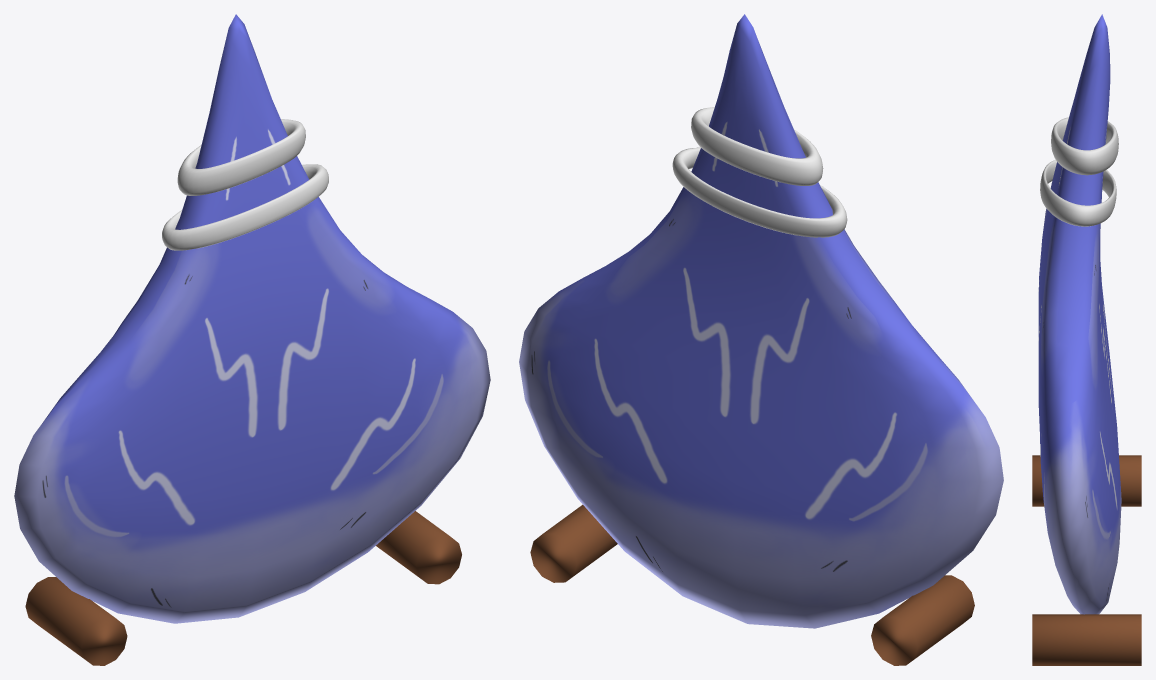
The model's file is escamaLendaria.fbx.
3 renders of one model, left to right at view 1: azimuth 30°, elevation 25°; view 2: azimuth 150°, elevation 25°; view 3: azimuth 270°, elevation 25°, orthographic. The views are drawn at different scales.
Visible parts, largest first — view 1: EscamaLemdaria, Cylinder, BezierCircle, BezierCircle.001; view 2: EscamaLemdaria, Cylinder, BezierCircle, BezierCircle.001; view 3: EscamaLemdaria, Cylinder, BezierCircle, BezierCircle.001.
Part boxes in pixels (<box>): EscamaLemdaria: <box>14,14,490,623</box>; Cylinder: <box>25,511,461,665</box>; BezierCircle: <box>162,164,328,250</box>; BezierCircle.001: <box>177,119,305,195</box>; EscamaLemdaria: <box>519,14,1003,628</box>; Cylinder: <box>530,504,974,665</box>; BezierCircle: <box>672,147,847,237</box>; BezierCircle.001: <box>691,107,823,185</box>; EscamaLemdaria: <box>1038,14,1121,614</box>; Cylinder: <box>1032,455,1141,665</box>; BezierCircle: <box>1040,160,1116,226</box>; BezierCircle.001: <box>1051,117,1118,175</box>.
Size of the model in its own units: 231 by 278 by 47.1.
